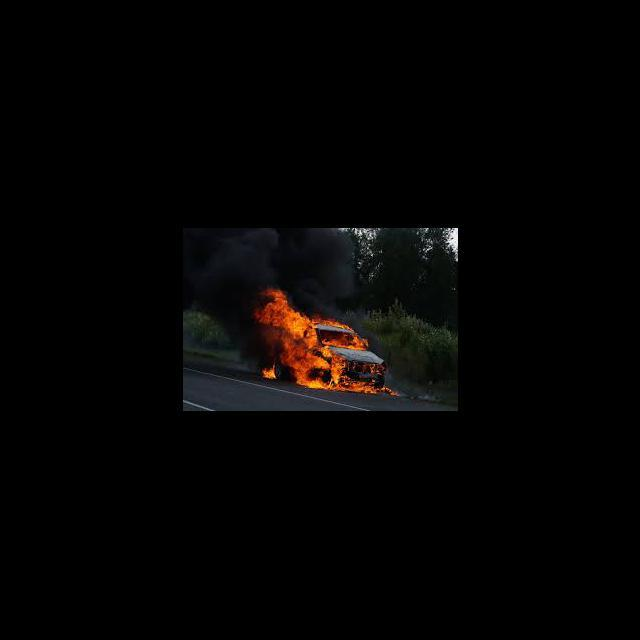Fire: (254, 288, 388, 396)
Smoke: (184, 230, 354, 286), (184, 288, 254, 318)
